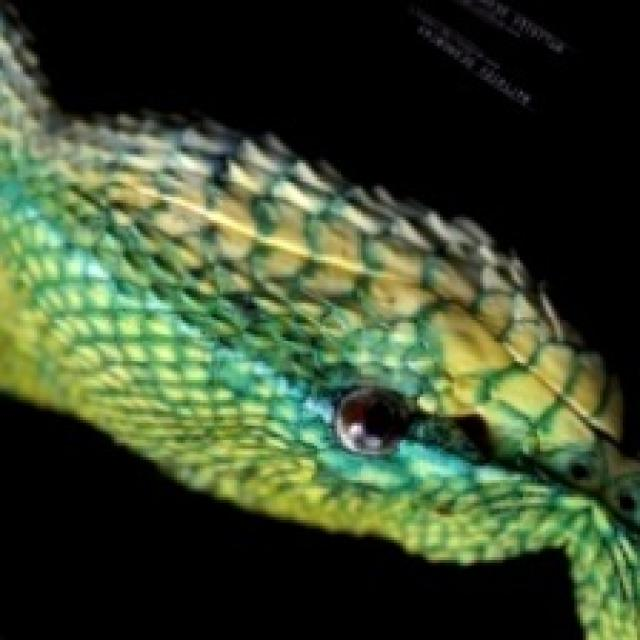north ph temple pitviper: (0, 3, 637, 637)
